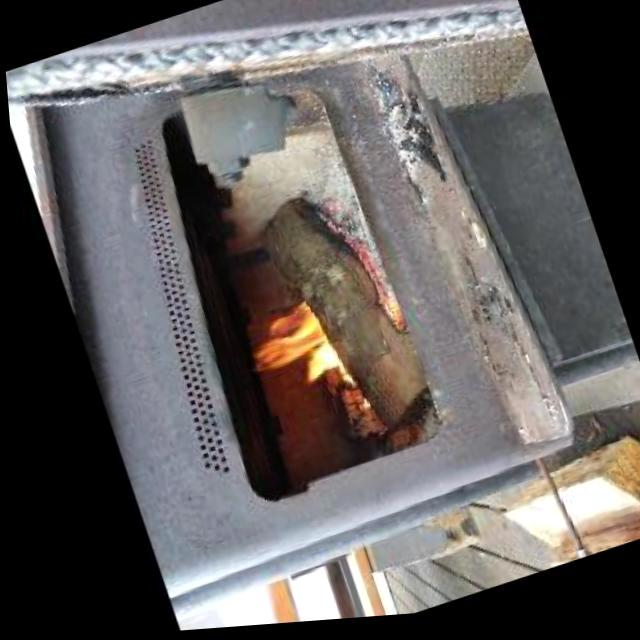fire: (236, 298, 344, 410)
